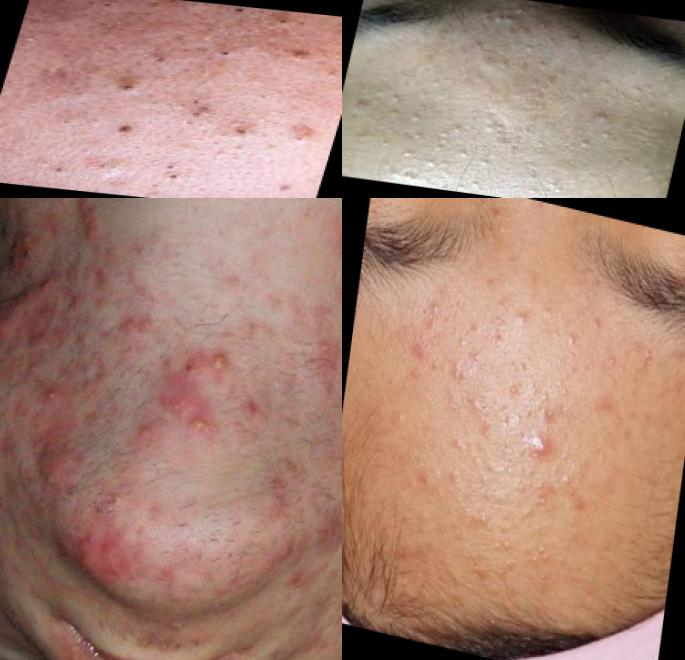blackhead: (205, 31, 249, 74), (517, 528, 558, 570), (146, 152, 196, 185), (92, 75, 153, 101), (219, 111, 263, 144), (176, 93, 217, 128), (473, 45, 507, 77), (70, 1, 126, 16), (532, 73, 566, 95), (258, 11, 299, 29), (133, 51, 173, 66)
cystic: (24, 425, 86, 497)
folliculitis: (94, 295, 173, 352), (189, 330, 256, 390), (179, 391, 226, 453), (20, 376, 82, 418), (4, 344, 57, 383)
keloid: (1, 259, 59, 357)
papular: (523, 415, 556, 466)
whitehead: (461, 1, 531, 39), (613, 74, 668, 121), (482, 516, 516, 559), (376, 87, 413, 123), (551, 322, 580, 364), (570, 69, 602, 104), (423, 291, 452, 324), (469, 331, 491, 374), (431, 128, 455, 155), (506, 376, 530, 403), (640, 338, 657, 376), (571, 133, 596, 158), (470, 154, 498, 176), (419, 156, 452, 174), (514, 299, 530, 333), (599, 122, 619, 148), (406, 114, 427, 129), (396, 149, 416, 164), (455, 150, 472, 164)
